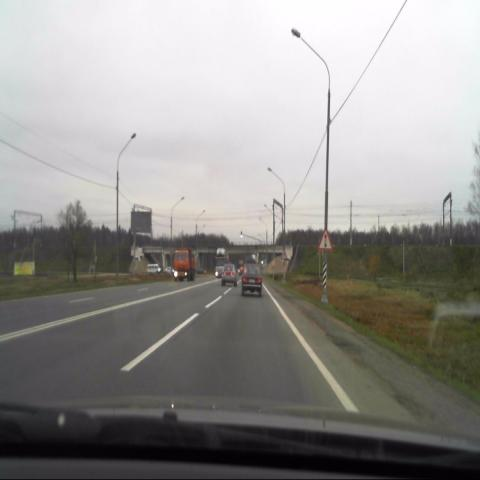1_8: (318, 228, 333, 252)
